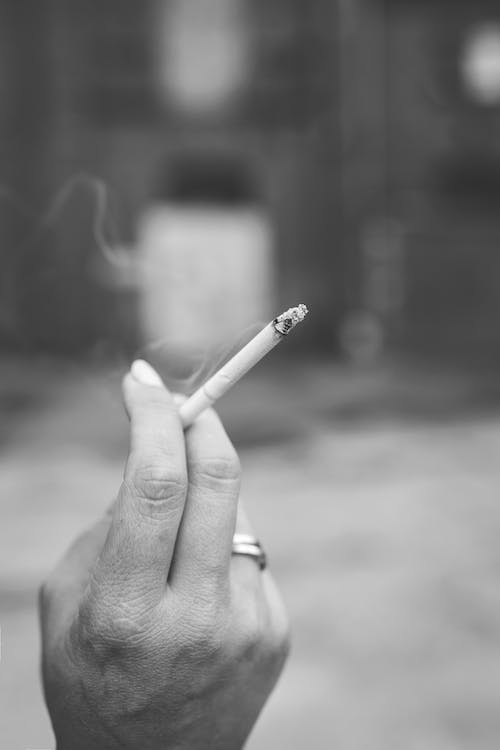cigarette: (173, 297, 311, 430)
